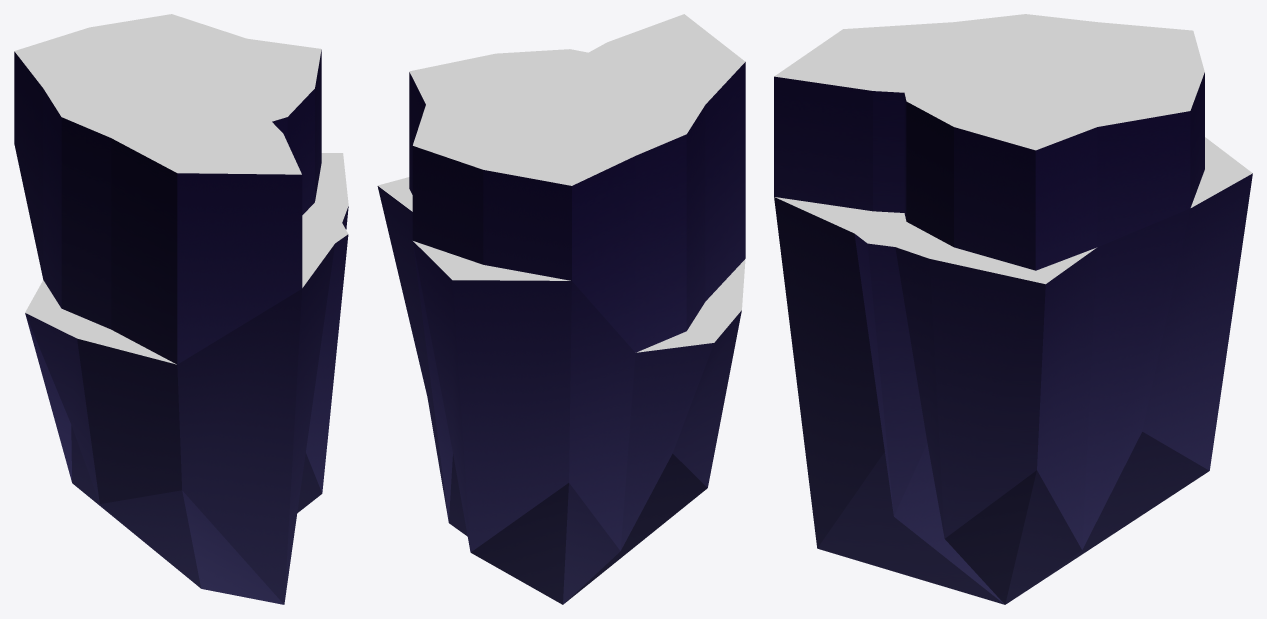
File: MOD_FLOATING_Island1.fbx
3 views of the same model, side by side, from view 1: azimuth 30°, elevation 25°; view 2: azimuth 150°, elevation 25°; view 3: azimuth 270°, elevation 25° (orthographic). The views are drawn at different scales.
Parts seen in each view (by area): view 1: MOD_FLOATING_Isalnd1; view 2: MOD_FLOATING_Isalnd1; view 3: MOD_FLOATING_Isalnd1.
Boxes of the visible parts, bbox=[...] form: MOD_FLOATING_Isalnd1: bbox=[14, 14, 348, 604]; MOD_FLOATING_Isalnd1: bbox=[377, 14, 745, 604]; MOD_FLOATING_Isalnd1: bbox=[774, 14, 1252, 604].
Size of the model in its own units: 2.74 by 4.03 by 3.34.
Materials: 2 (1 with a texture image).
